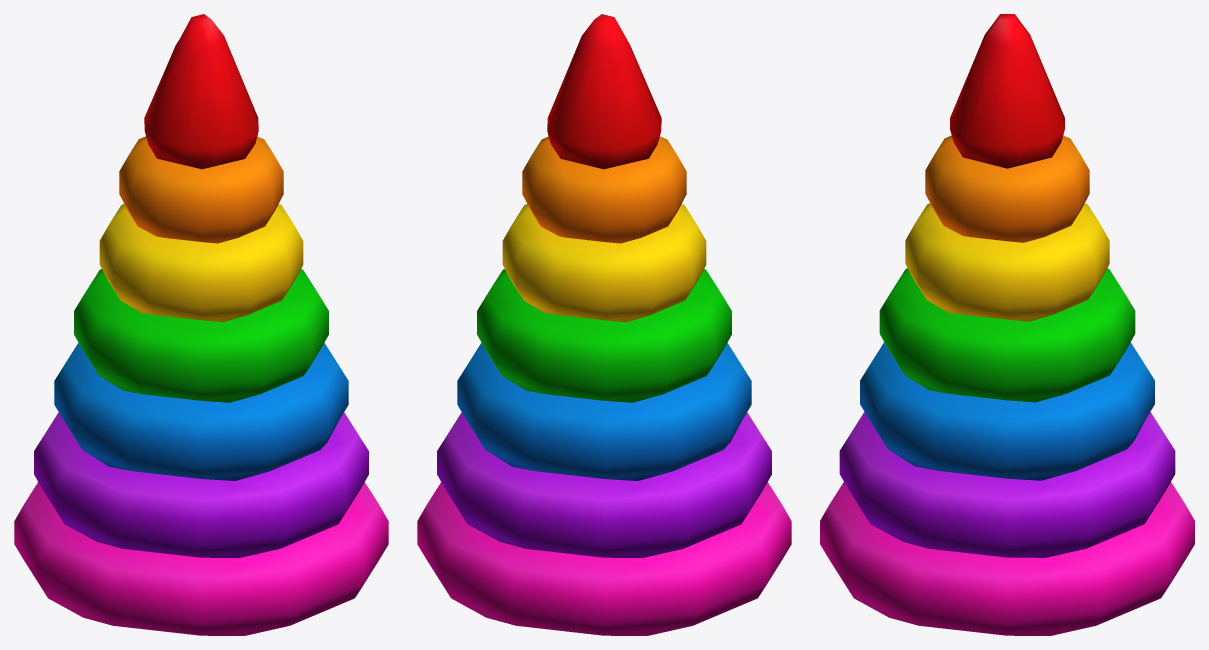
3 renders of one model, left to right at view 1: azimuth 30°, elevation 25°; view 2: azimuth 150°, elevation 25°; view 3: azimuth 270°, elevation 25°, orthographic.
Parts seen in each view (by area): view 1: pyramid; view 2: pyramid; view 3: pyramid.
Part boxes in pixels (bbox=[...]): pyramid: bbox=[14, 14, 388, 635]; pyramid: bbox=[417, 14, 791, 635]; pyramid: bbox=[820, 14, 1194, 635].
Size of the model in its own units: 15.63 by 25.32 by 15.63.
